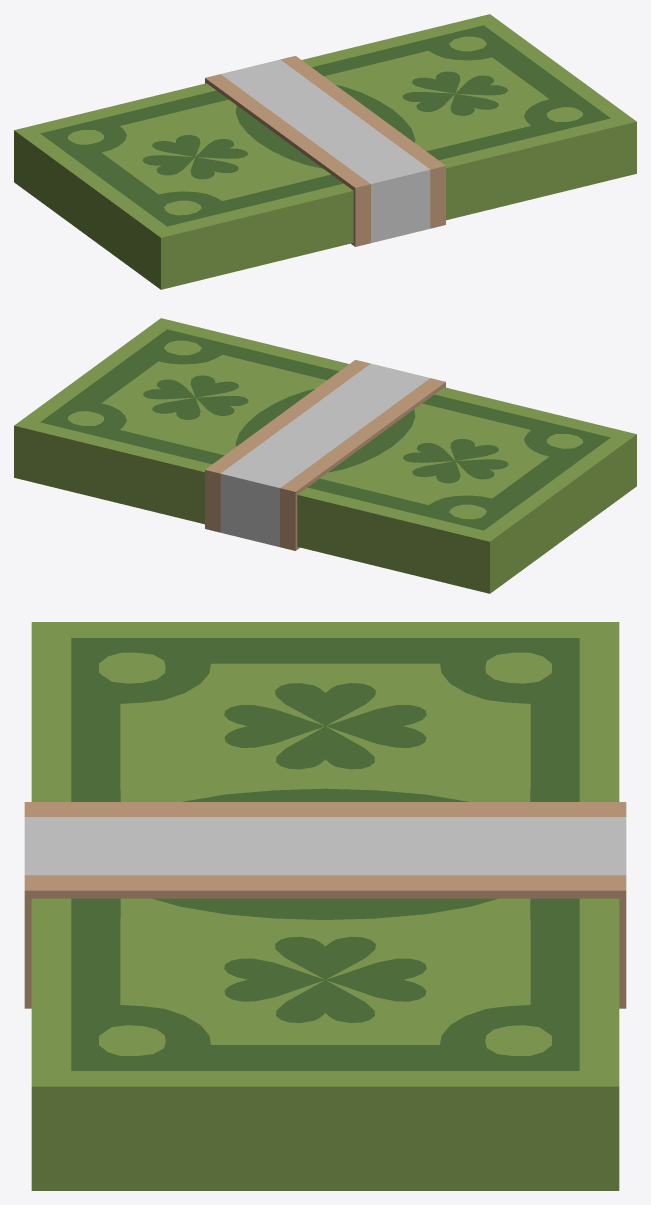
Rendered from PaperMoney_01_Thick.fbx.
3 views of the same model, one above another, from view 1: azimuth 30°, elevation 25°; view 2: azimuth 150°, elevation 25°; view 3: azimuth 270°, elevation 25° (orthographic). The views are drawn at different scales.
Parts seen in each view (by area): view 1: PaperMoney_01_Thick, PaperMoney_01_Thick_Band; view 2: PaperMoney_01_Thick, PaperMoney_01_Thick_Band; view 3: PaperMoney_01_Thick, PaperMoney_01_Thick_Band.
Boxes of the visible parts, bbox=[...] form: PaperMoney_01_Thick: bbox=[14, 14, 636, 289]; PaperMoney_01_Thick_Band: bbox=[205, 56, 445, 246]; PaperMoney_01_Thick: bbox=[14, 318, 636, 593]; PaperMoney_01_Thick_Band: bbox=[205, 360, 445, 550]; PaperMoney_01_Thick: bbox=[31, 622, 619, 1190]; PaperMoney_01_Thick_Band: bbox=[24, 802, 626, 1008].
Bounding box in the file's own units: 0.208 × 0.0247 × 0.1138.
